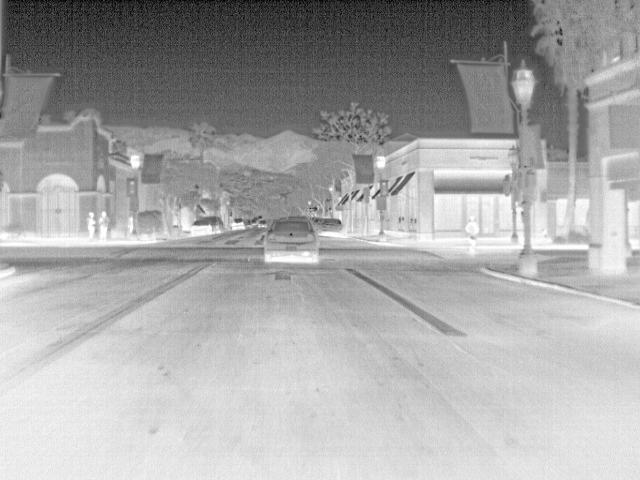car: (260, 218, 319, 266), (317, 218, 345, 237), (189, 218, 216, 237), (227, 216, 247, 232)
person: (462, 212, 481, 260), (94, 208, 108, 243), (84, 210, 96, 243)
